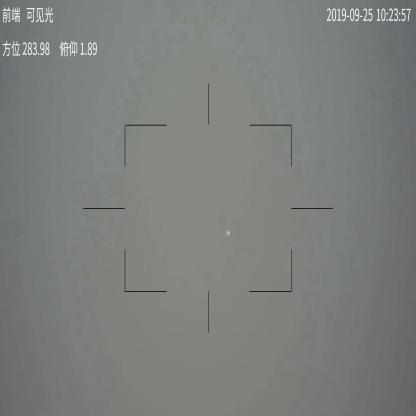uav: (224, 227, 231, 236)
